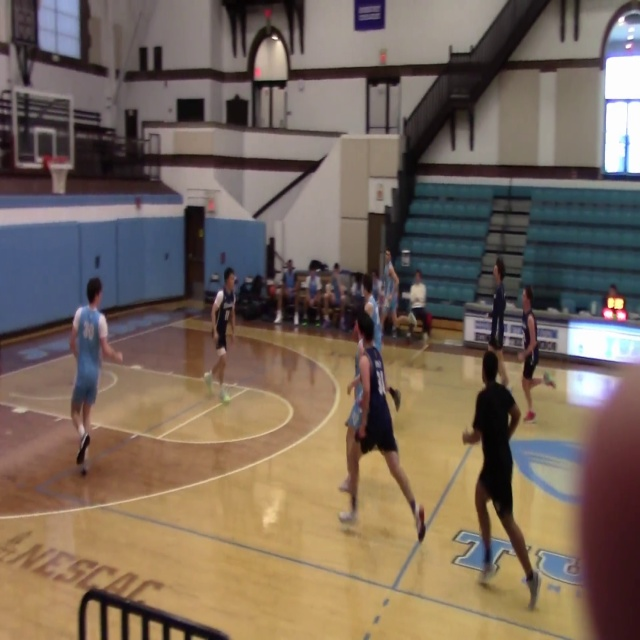Basketball: (396, 315, 411, 327)
